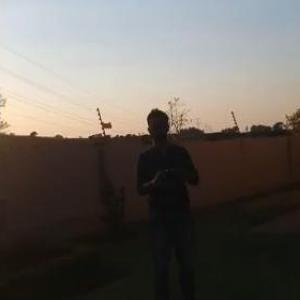follow: (128, 102, 211, 299)
